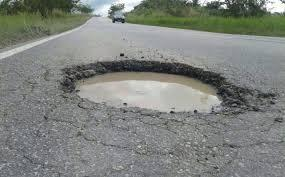Pothole: (63, 61, 274, 113)
